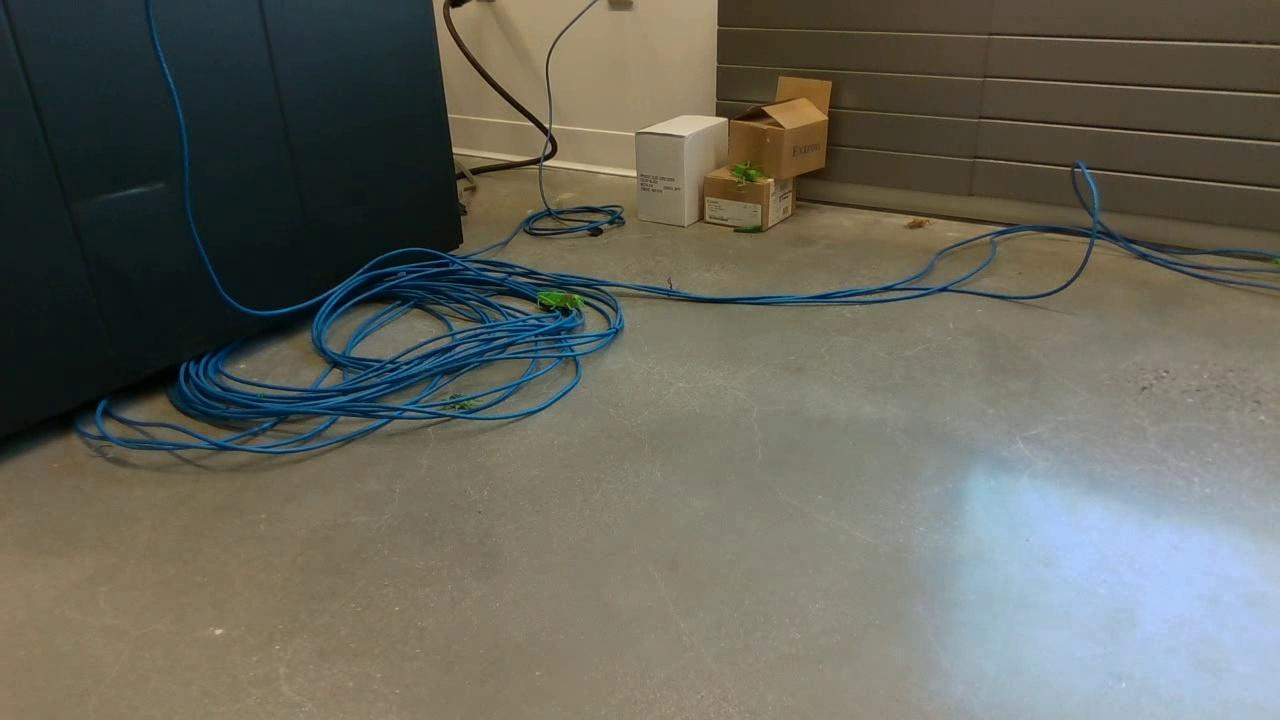grasshopper: (533, 285, 586, 318), (727, 159, 762, 183)
